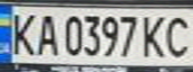0: (60, 11, 84, 57)
3: (81, 11, 103, 57)
7: (118, 11, 142, 58)
9: (100, 11, 121, 57)
A: (30, 10, 60, 56)
C: (160, 11, 193, 60)
K: (3, 9, 39, 56), (139, 11, 172, 58)
